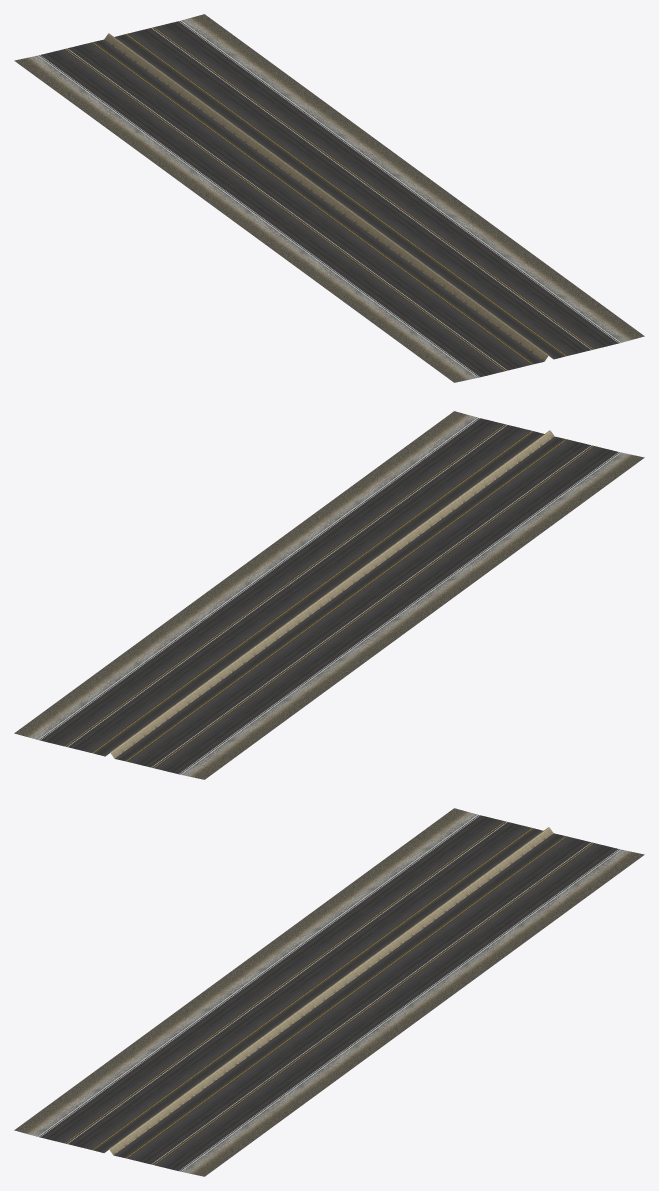
The model's file is vegasnroad20.obj.
3 views of the same model, one above another, from view 1: azimuth 30°, elevation 25°; view 2: azimuth 150°, elevation 25°; view 3: azimuth 330°, elevation 25° (orthographic).
Parts seen in each view (by area): view 1: vegasNroad20; view 2: vegasNroad20; view 3: vegasNroad20.
Boxes of the visible parts, x1=… form: vegasNroad20: x1=14, y1=14, x2=644, y2=382; vegasNroad20: x1=14, y1=411, x2=644, y2=779; vegasNroad20: x1=14, y1=808, x2=644, y2=1176.
Size of the model in its own units: 40 by 0.994 by 160.
Materials: 4 (4 with a texture image).
